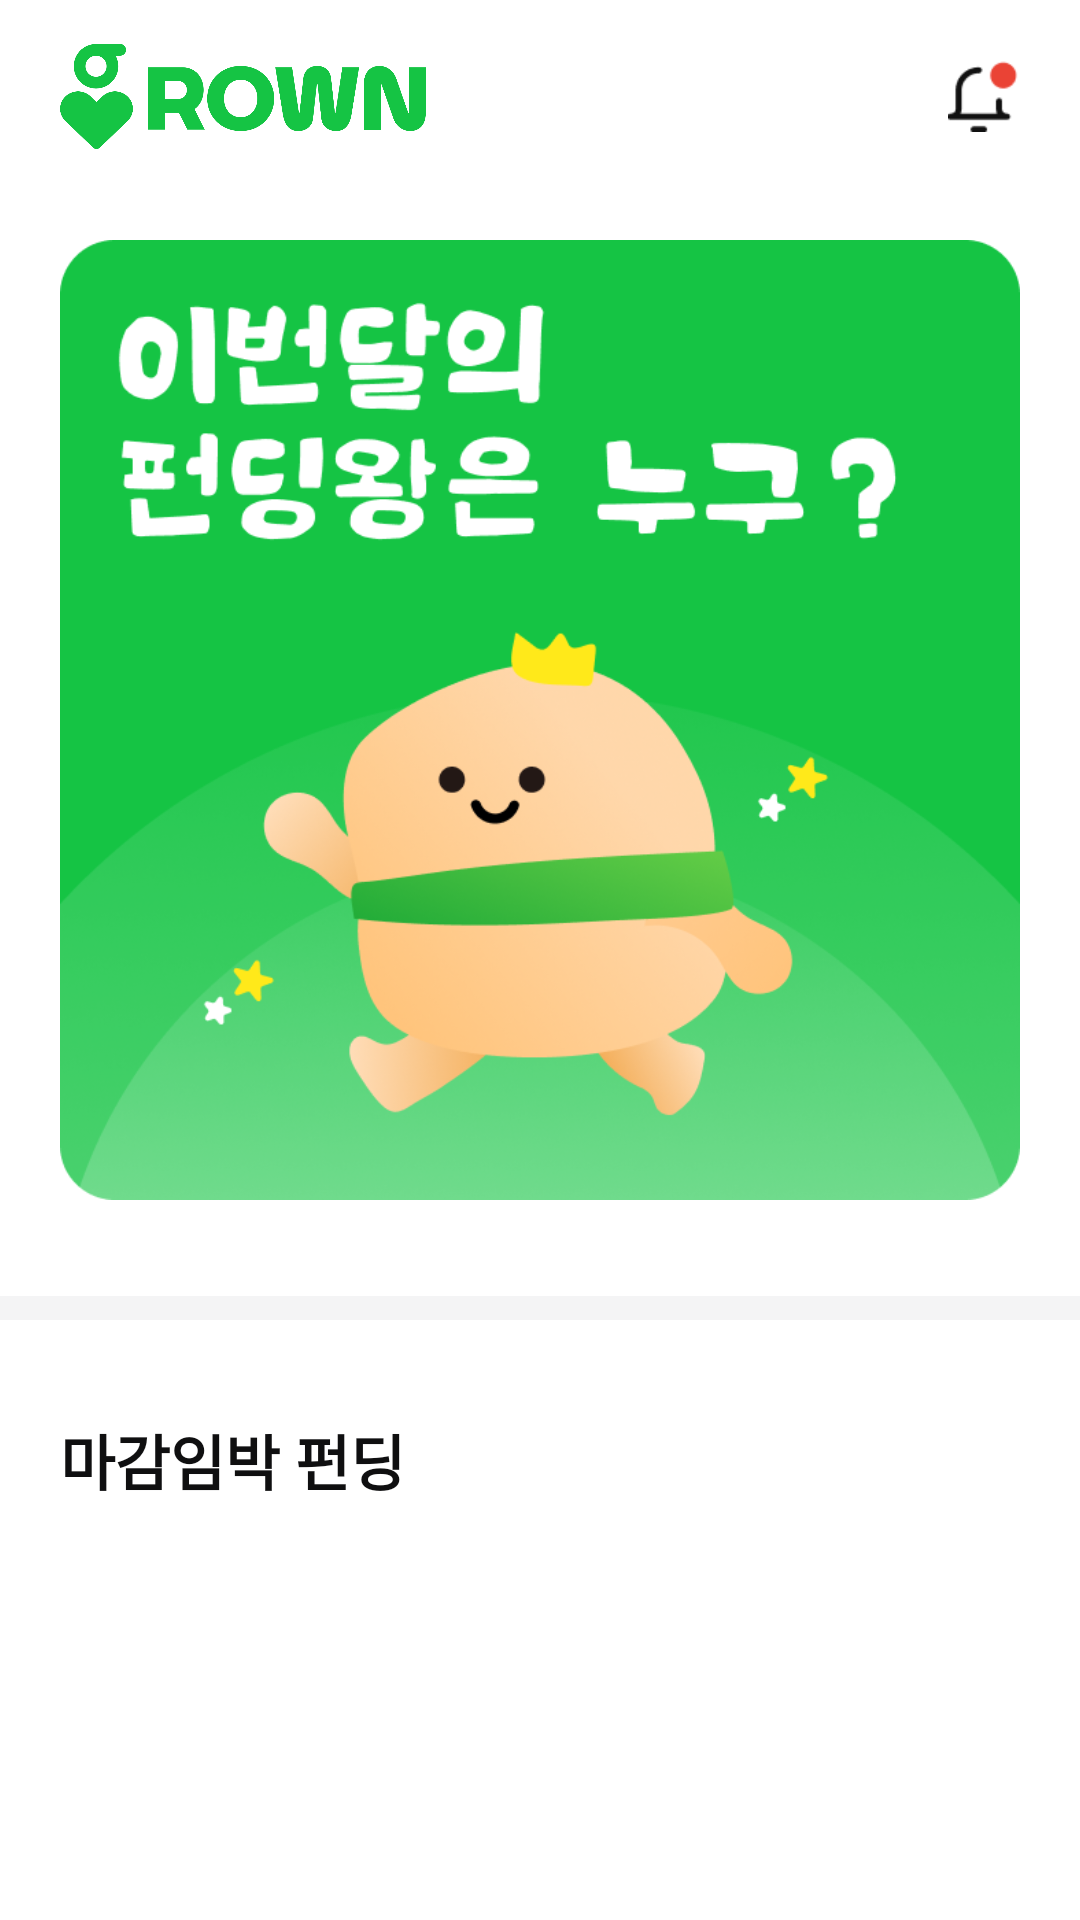

Icons on this 1080px×1920px Android screen, each with its box as (x1, y1, x2, y2):
notice: (948, 61, 1017, 132)
